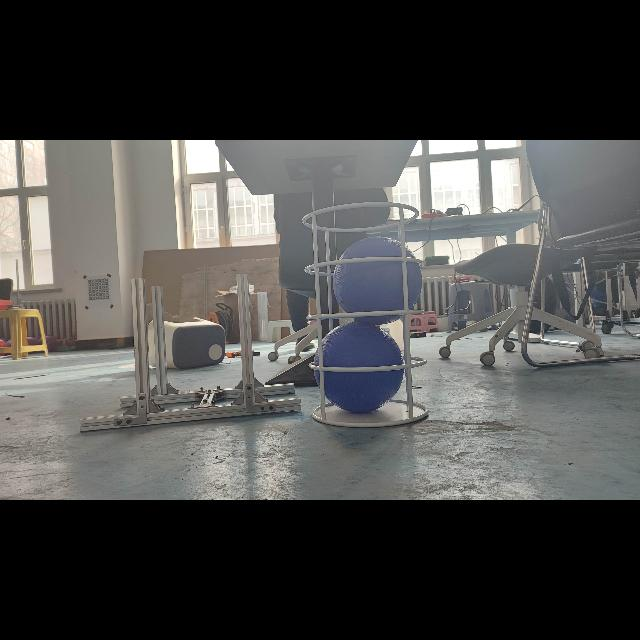B: (312, 321, 406, 413), (332, 236, 422, 324)
S: (295, 195, 431, 433)
